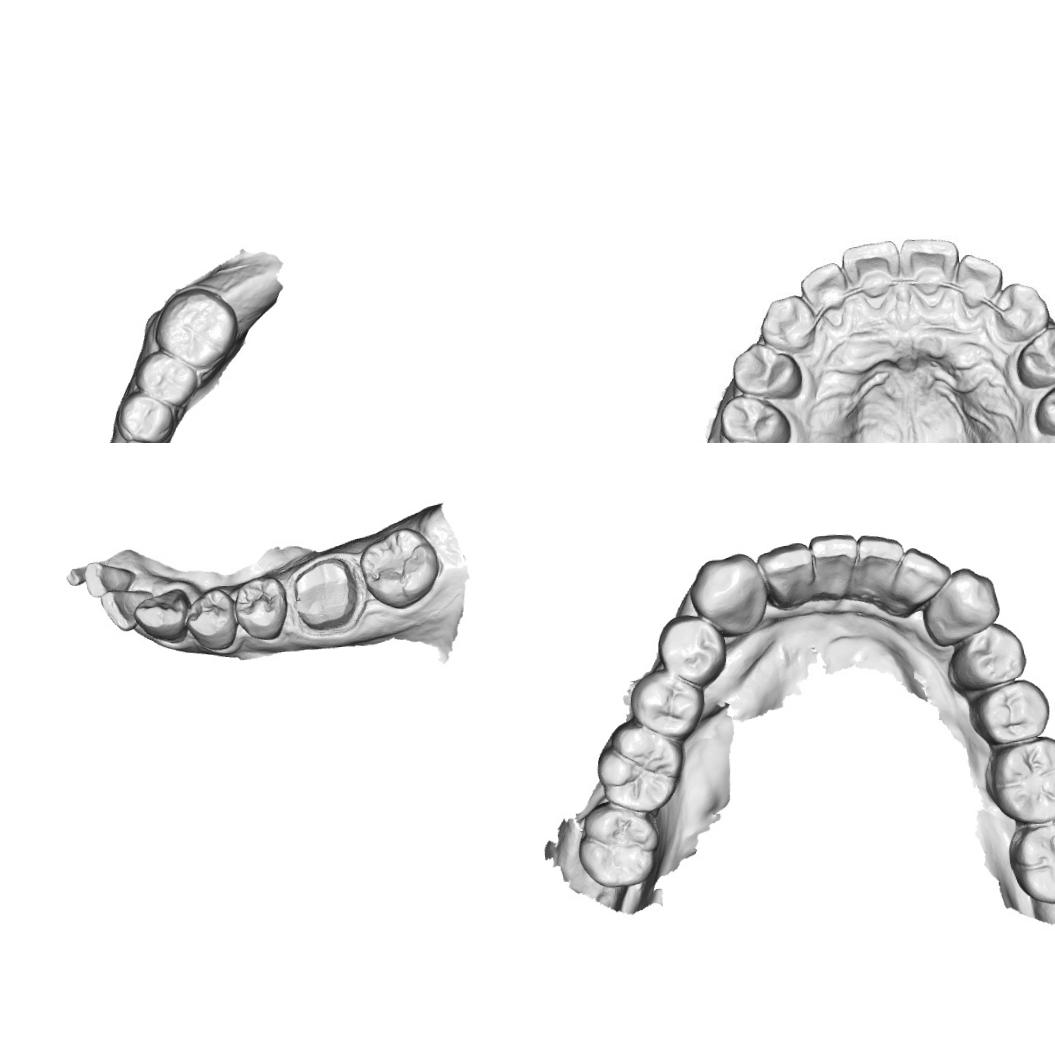canine: (690, 550, 770, 639), (925, 563, 1004, 640), (130, 587, 191, 644), (992, 282, 1048, 338), (757, 294, 814, 348)
crown: (285, 550, 367, 634)
incisor: (898, 232, 958, 297), (807, 534, 863, 601), (892, 545, 946, 614), (753, 540, 811, 604), (852, 531, 900, 604), (843, 241, 899, 298), (954, 252, 1006, 310), (98, 586, 156, 632), (800, 260, 850, 312), (82, 558, 136, 598)
molar: (592, 719, 690, 816), (151, 285, 240, 372), (576, 803, 664, 890), (356, 524, 442, 612), (983, 731, 1055, 825), (1003, 819, 1055, 910)
premolar: (652, 611, 732, 688), (967, 676, 1050, 746), (626, 668, 702, 742), (950, 618, 1028, 690), (734, 344, 808, 402), (132, 346, 200, 407), (720, 392, 799, 443), (232, 573, 290, 642), (181, 584, 238, 652), (111, 388, 176, 443), (1015, 327, 1055, 385), (1030, 374, 1055, 433)
